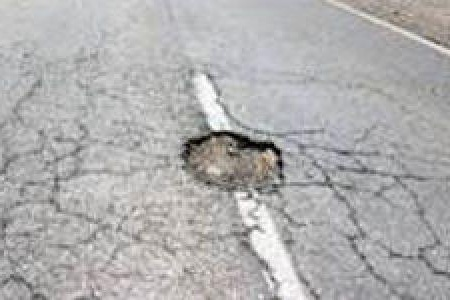pothole: (178, 127, 288, 196)
